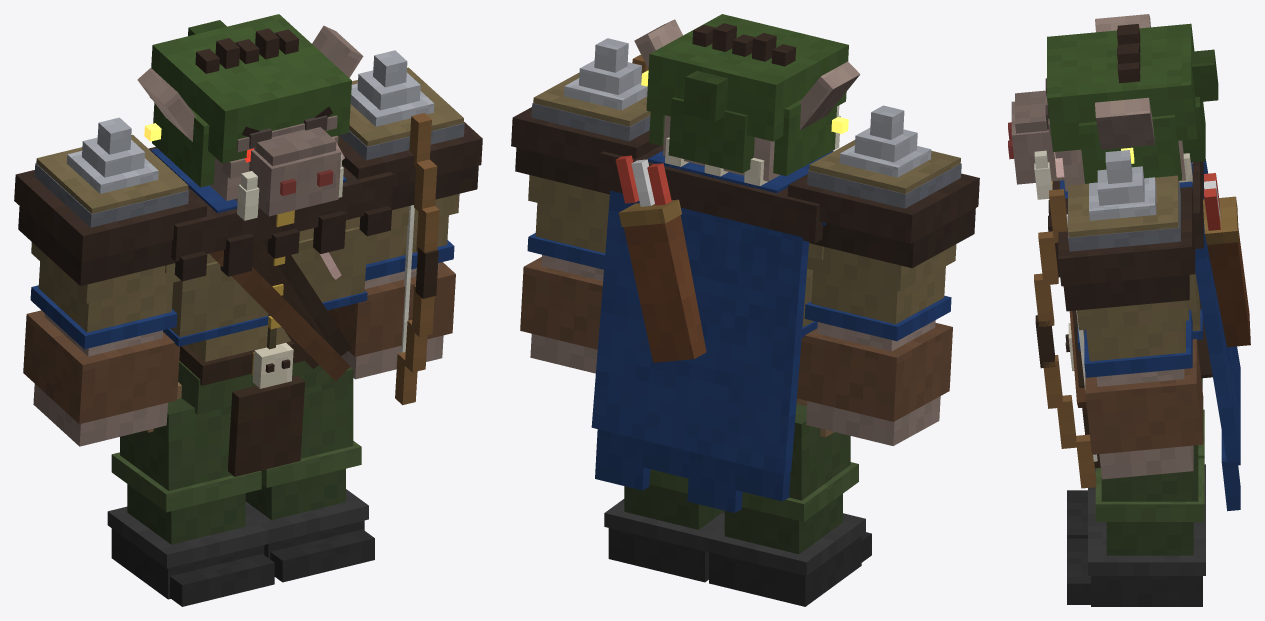
Rendered from orc_chasseur_v3.glb.
3 views of the same model, side by side, from view 1: azimuth 30°, elevation 25°; view 2: azimuth 150°, elevation 25°; view 3: azimuth 270°, elevation 25° (orthographic).
Visible parts, largest first — view 1: ArmR, Torso, Head, LegR, ArmL, LegL, HandL; view 2: Torso, ArmR, Head, ArmL, LegR, LegL; view 3: ArmL, Head, LegL, Torso, HandL, LegR.
Part boxes in pixels (x1,y1,x2,y2): ArmR: (14,117,207,446); Torso: (146,147,393,476); Head: (137,14,363,220); LegR: (107,398,274,606); ArmL: (327,50,482,379); LegL: (245,367,374,582); HandL: (395,113,439,405); Torso: (591,137,834,512); ArmR: (787,105,979,445); Head: (634,14,860,181); ArmL: (511,38,660,373); LegR: (705,404,871,606); LegL: (604,469,724,582); ArmL: (1058,150,1203,479); Head: (1008,14,1218,199); LegL: (1067,445,1205,606); Torso: (1048,153,1250,511); HandL: (1034,189,1097,488); LegR: (1067,409,1205,538).
Bounding box in the file's own units: 1.44 × 1.8 × 0.7627.
48 materials, 48 textured.
